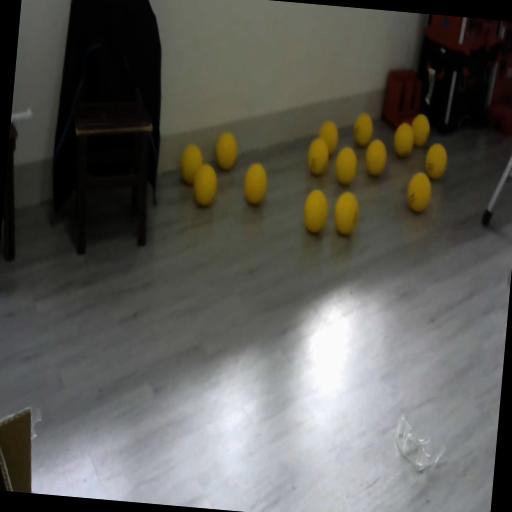FUEL: (301, 187, 330, 235), (332, 188, 360, 236), (242, 160, 270, 206), (178, 142, 206, 186), (406, 171, 432, 214), (333, 144, 359, 186), (213, 130, 239, 172), (363, 137, 389, 177), (424, 142, 449, 181), (306, 136, 330, 176), (391, 120, 416, 158), (409, 111, 432, 148), (352, 112, 374, 148)
